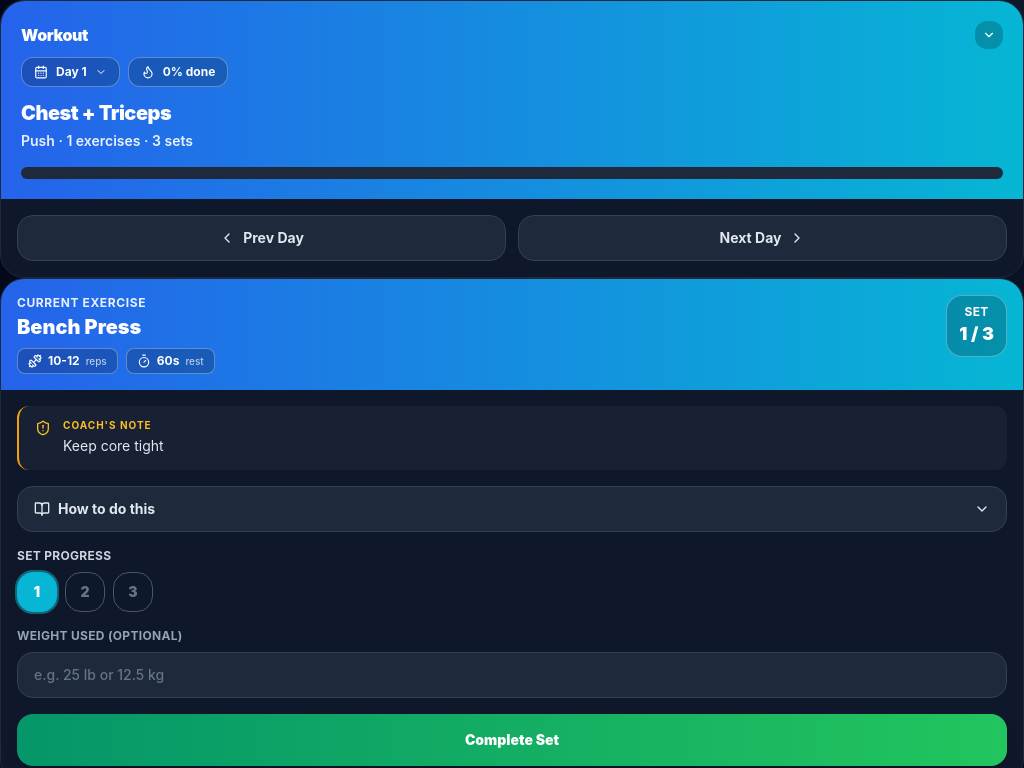
Test case: Integration: plan paste flow — valid https:// URL renders Watch Demo link (Req 3.1) › paste flow with valid https:// YouTube URL — Watch Demo link renders with correct href
Expand the guide section
Click the button "How to do this" at (107, 508), box [17,486,1007,532]
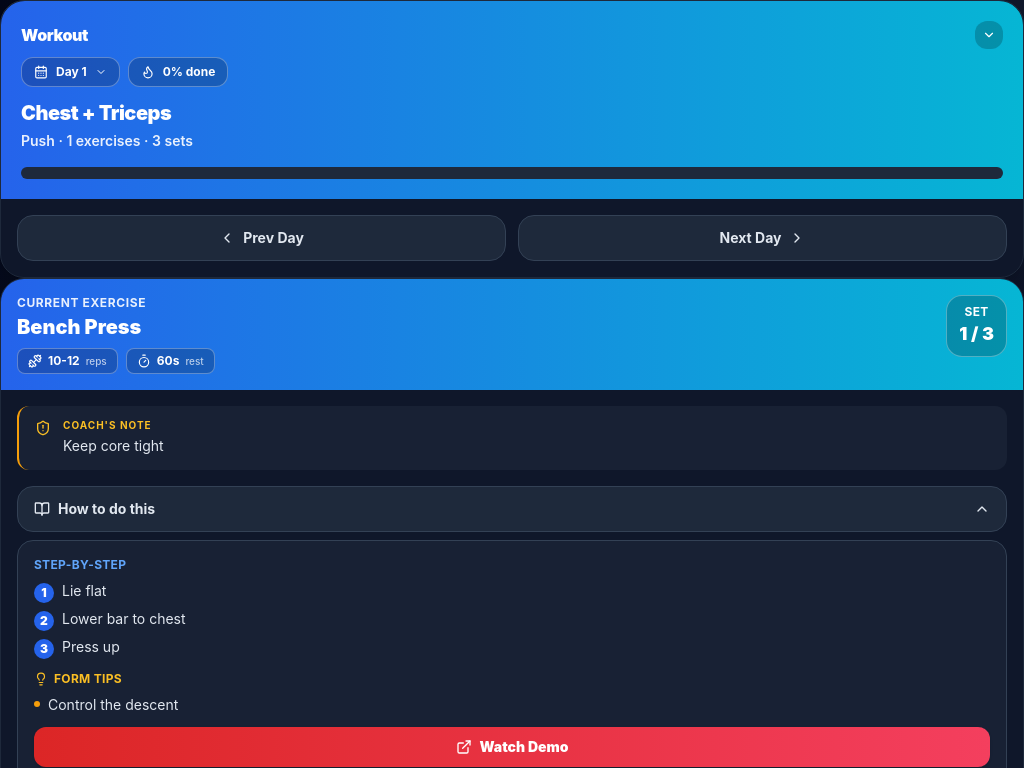
Result: the link "Watch Demo" is shown at [34,727,990,767]
